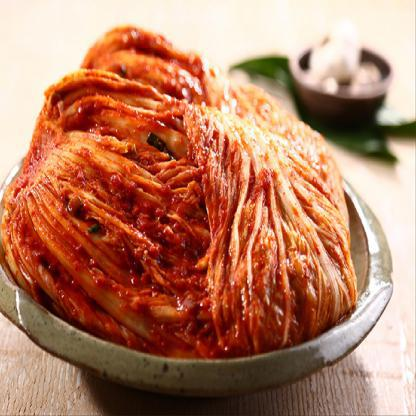kimchi: (14, 60, 360, 370)
